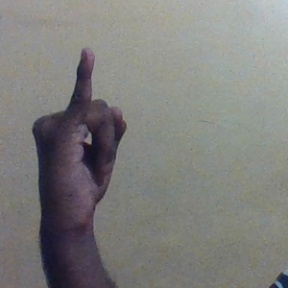I: (31, 49, 128, 217)
